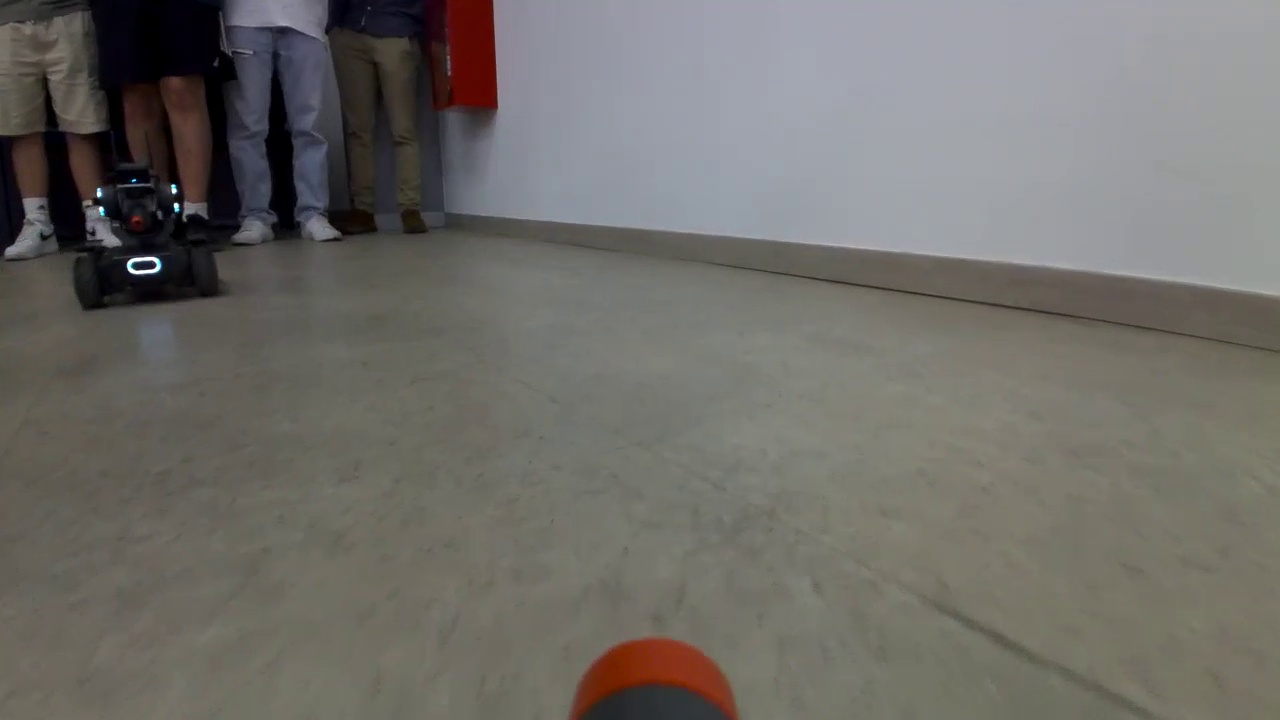robot: (66, 170, 235, 309)
